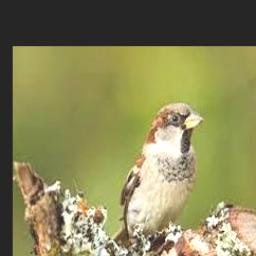Sparrow: (111, 103, 204, 249)
